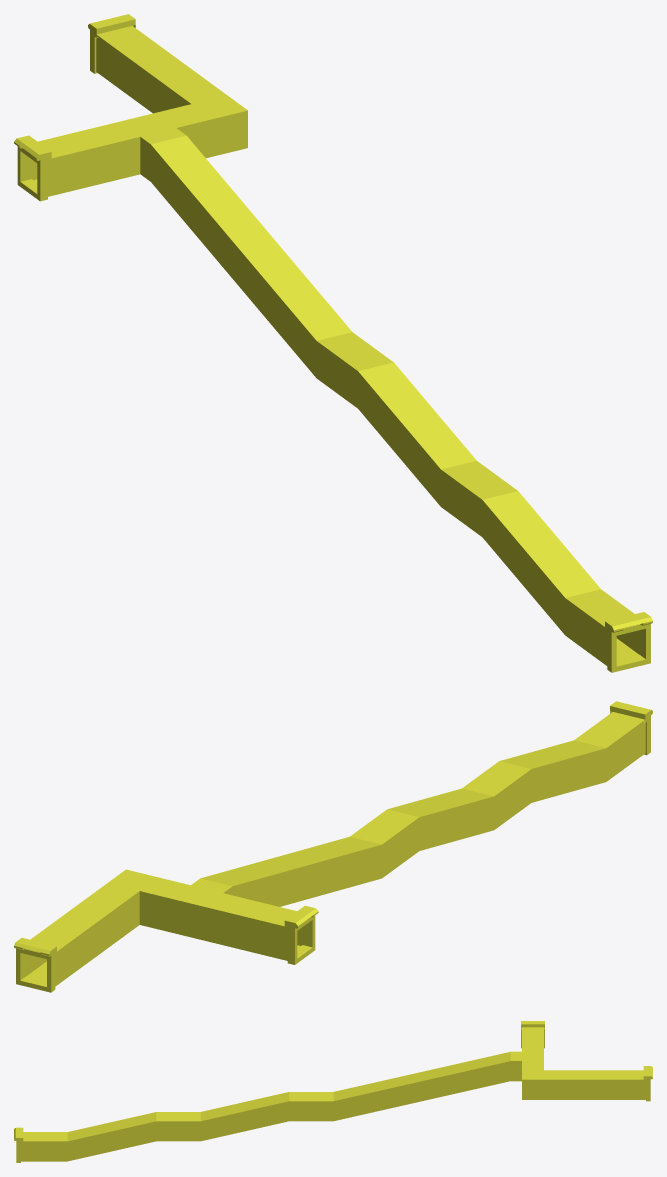
File: Encounter_002_Vent.fbx
3 renders of one model, top to bottom at view 1: azimuth 30°, elevation 25°; view 2: azimuth 150°, elevation 25°; view 3: azimuth 270°, elevation 25°, orthographic. The views are drawn at different scales.
Parts seen in each view (by area): view 1: Encounter_002_Vent; view 2: Encounter_002_Vent; view 3: Encounter_002_Vent.
Part boxes in pixels (x1=…): Encounter_002_Vent: x1=14, y1=14, x2=652, y2=672; Encounter_002_Vent: x1=14, y1=701, x2=652, y2=992; Encounter_002_Vent: x1=14, y1=1021, x2=652, y2=1162.
Bounding box in the file's own units: 596 × 524 × 2884.
